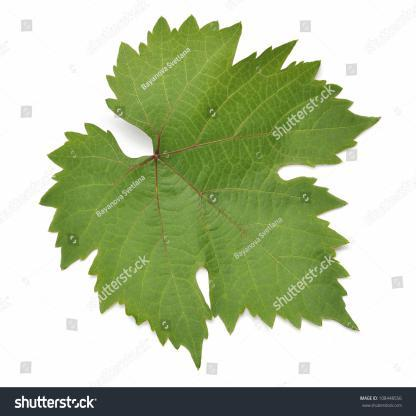grape leaf black rot: (28, 15, 377, 354)
